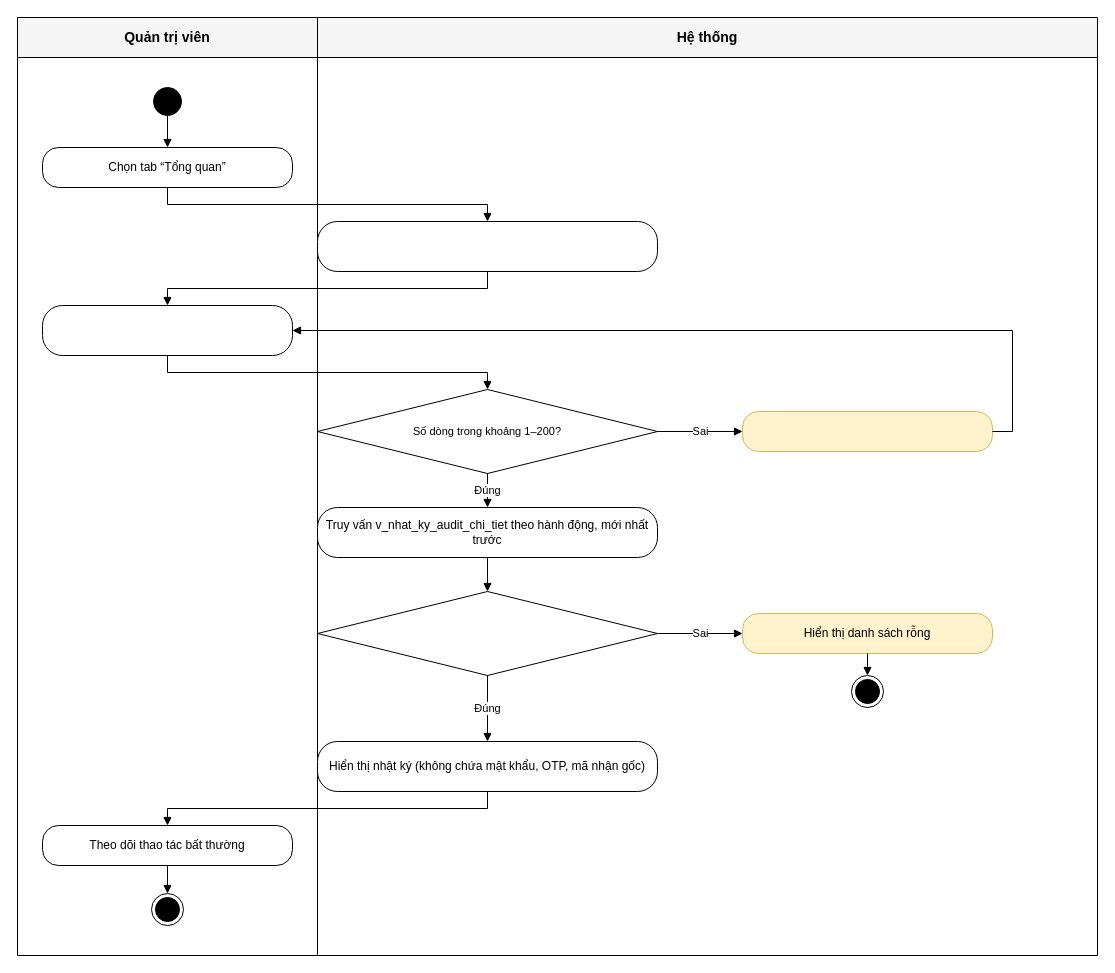
Image size: 1115x973. Some labels were removed from this diagram. The centre of each missing label's shape, as x and y in pixels:
"Chọn tab “Nhật ký”, chọn hành động cần lọc và số dòng" belongs at [167,330].
"Có dòng nhật ký khớp bộ lọc?" belongs at [487,633].
"Không áp dụng, chọn lại số dòng" belongs at [867,431].
"Truy vấn v_thong_ke_tong_quan, v_thong_ke_tu và hiển thị số liệu" belongs at [487,246].
